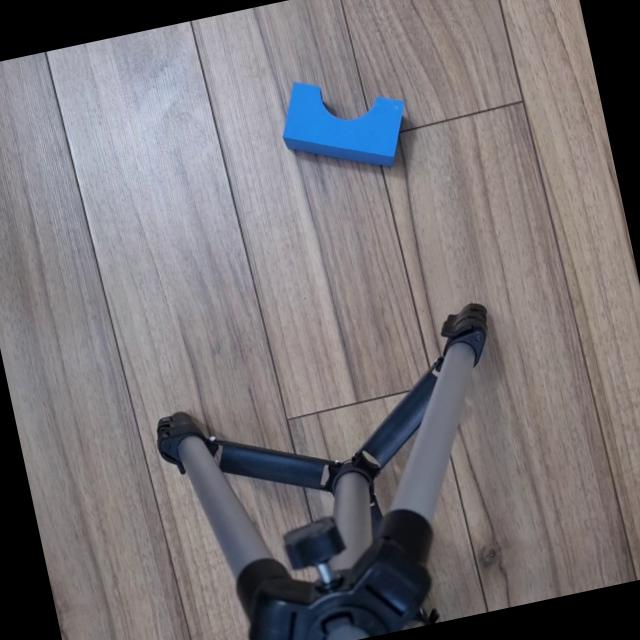block: (243, 46, 442, 202)
